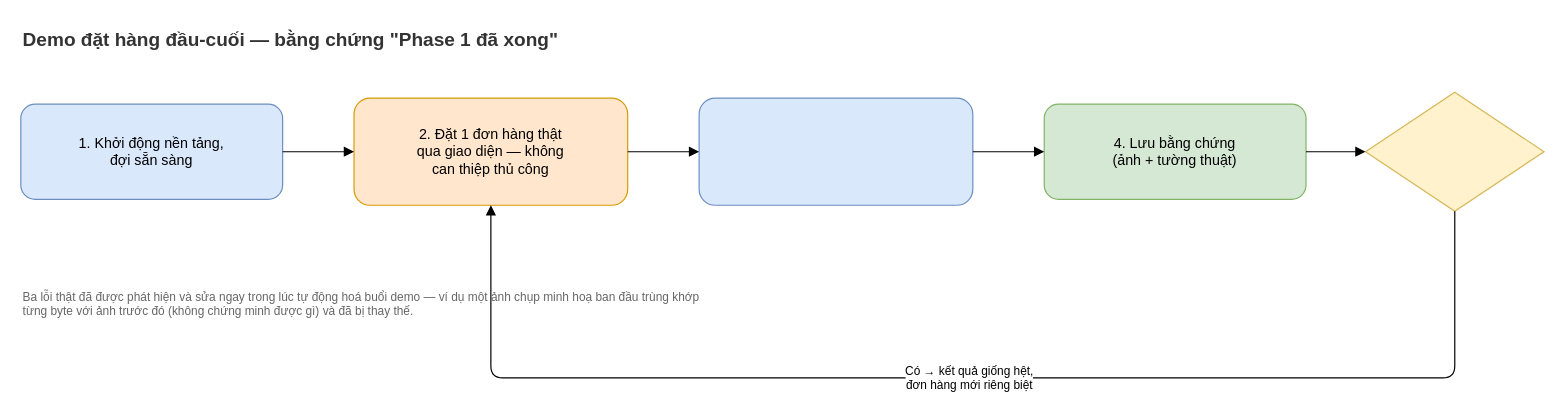
The diagram is 1565 pixels wide and 412 high, and some of its shapes have lost their labels. Here are the shapes that lost their labels. From the top down, the centre of each, then its label:
(835,151): 3. Xác nhận đơn hàng lưu đúng, đúng khách hàng doanh nghiệp
(1454,151): Chạy lại từ giỏ trống?
